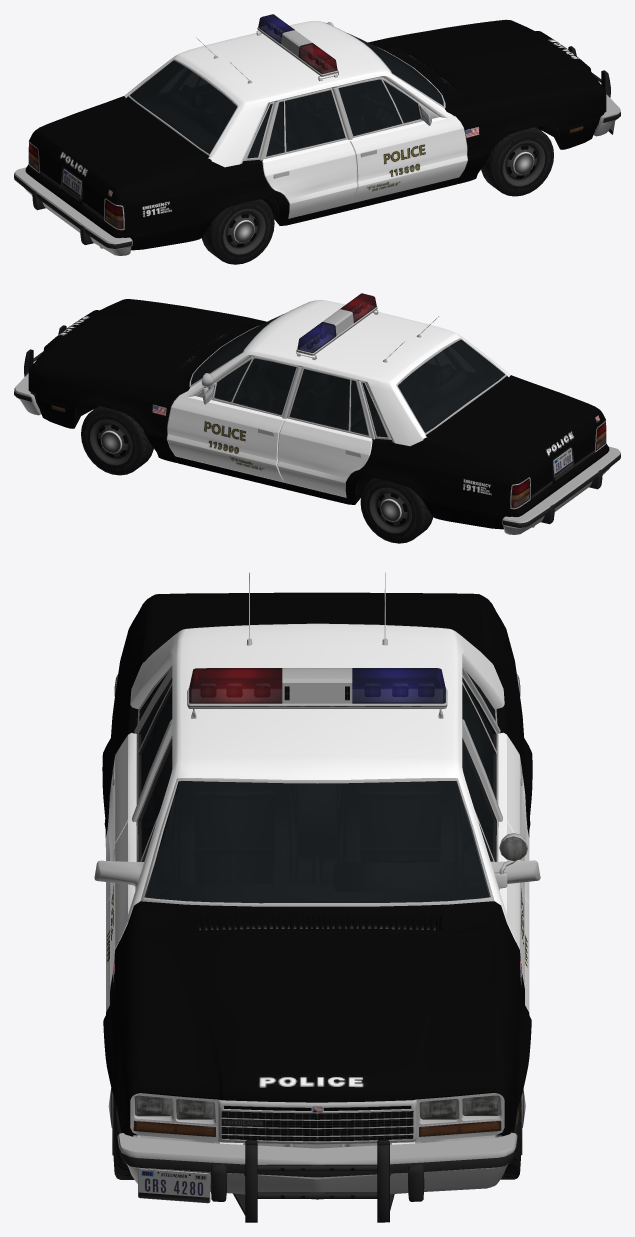
File: prop_car_police.glb
The picture shows the model from 3 angles, top to bottom: view 1: azimuth 30°, elevation 25°; view 2: azimuth 150°, elevation 25°; view 3: azimuth 270°, elevation 25°; orthographic projection. The views are drawn at different scales.
Visible parts, largest first — view 1: Fairheaven_LT80_body001_Fairheaven_LT80_Bodymat_0, Fairheaven_LT80_trunk_door001_Fairheaven_LT80_Bodymat_0, Fairheaven_LT80_Hood001_Fairheaven_LT80_Bodymat_0, Fairheaven_LT80_Interior_Trim001_UCB_Interior_Trim_0, Fairheaven_LT80_Glass_Rear001_UCB_Lights_and_Glass_Transpere, Fairheaven_LT80_Interior001_UCB_Interior_Trim_0, Fairheaven_LT80_Glass_Body001_UCB_Lights_and_Glass_Transpere, Fairheaven_LT80_Trim_UCB_BOTTOM_GT_0, Fairheaven_LT80_WheelStamp_FR_RB1c_Tire_1k_0, Fairheaven_LT80_WheelStamp_RR_RB1c_Tire_1k_0, Fairheaven_LT80_Glass_Passanger002_UCB_Lights_and_Glass_Tran, Fairheaven_LT80_bumper_rear001_UCB_BOTTOM_GT_0 (+9 smaller); view 2: Fairheaven_LT80_body001_Fairheaven_LT80_Bodymat_0, Fairheaven_LT80_trunk_door001_Fairheaven_LT80_Bodymat_0, Fairheaven_LT80_Hood001_Fairheaven_LT80_Bodymat_0, Fairheaven_LT80_Interior_Trim001_UCB_Interior_Trim_0, Fairheaven_LT80_Interior001_UCB_Interior_Trim_0, Fairheaven_LT80_Glass_Rear001_UCB_Lights_and_Glass_Transpere, Fairheaven_LT80_Glass_Body001_UCB_Lights_and_Glass_Transpere, Fairheaven_LT80_Trim_UCB_BOTTOM_GT_0, Fairheaven_LT80_WheelStamp_FL_RB1c_Tire_1k_0, Fairheaven_LT80_WheelStamp_RL_RB1c_Tire_1k_0, Fairheaven_LT80_Glass_Driver002_UCB_Lights_and_Glass_Transpe, Fairheaven_LT80_bumper_rear001_UCB_BOTTOM_GT_0 (+9 smaller); view 3: Fairheaven_LT80_body001_Fairheaven_LT80_Bodymat_0, Fairheaven_LT80_Hood001_Fairheaven_LT80_Bodymat_0, Fairheaven_LT80_Interior_Trim001_UCB_Interior_Trim_0, Fairheaven_LT80_Windshield001_UCB_Lights_and_Glass_Transpere, Fairheaven_LT80_Bumper_Front001_UCB_BOTTOM_GT_0, Fairheaven_LT80_Front_Plate_Inner001_UCB_BOTTOM_GT_0, Fairheaven_LT80_trunk_door001_Fairheaven_LT80_Bodymat_0, Fairheaven_LT80_Trim_UCB_BOTTOM_GT_0, Fairheaven_LT80_Lightbar_UCB_BOTTOM_GT_0, Fairheaven_LT80_Lightbar_Glass_UCB_Lights_and_Glass_Transper, Fairheaven_LT80_Headlights_Glass001_UCB_Lights_and_Glass_Tra, Fairheaven_LT80_Bullbar_UCB_BOTTOM_GT_0 (+8 smaller).
Boxes of the visible parts, x1,y1,x2,y2 form: Fairheaven_LT80_body001_Fairheaven_LT80_Bodymat_0: [25, 21, 588, 250]; Fairheaven_LT80_trunk_door001_Fairheaven_LT80_Bodymat_0: [32, 98, 207, 220]; Fairheaven_LT80_Hood001_Fairheaven_LT80_Bodymat_0: [385, 20, 602, 104]; Fairheaven_LT80_Interior_Trim001_UCB_Interior_Trim_0: [167, 49, 443, 157]; Fairheaven_LT80_Glass_Rear001_UCB_Lights_and_Glass_Transpere: [130, 60, 236, 153]; Fairheaven_LT80_Interior001_UCB_Interior_Trim_0: [130, 45, 442, 153]; Fairheaven_LT80_Glass_Body001_UCB_Lights_and_Glass_Transpere: [160, 68, 344, 158]; Fairheaven_LT80_Trim_UCB_BOTTOM_GT_0: [28, 22, 445, 230]; Fairheaven_LT80_WheelStamp_FR_RB1c_Tire_1k_0: [481, 127, 553, 196]; Fairheaven_LT80_WheelStamp_RR_RB1c_Tire_1k_0: [201, 199, 274, 264]; Fairheaven_LT80_Glass_Passanger002_UCB_Lights_and_Glass_Tran: [338, 79, 419, 135]; Fairheaven_LT80_bumper_rear001_UCB_BOTTOM_GT_0: [14, 167, 132, 255]; Fairheaven_LT80_body001_Fairheaven_LT80_Bodymat_0: [46, 300, 609, 529]; Fairheaven_LT80_trunk_door001_Fairheaven_LT80_Bodymat_0: [427, 377, 602, 499]; Fairheaven_LT80_Hood001_Fairheaven_LT80_Bodymat_0: [32, 299, 249, 383]; Fairheaven_LT80_Interior_Trim001_UCB_Interior_Trim_0: [192, 331, 467, 436]; Fairheaven_LT80_Interior001_UCB_Interior_Trim_0: [193, 324, 504, 432]; Fairheaven_LT80_Glass_Rear001_UCB_Lights_and_Glass_Transpere: [398, 339, 504, 432]; Fairheaven_LT80_Glass_Body001_UCB_Lights_and_Glass_Transpere: [290, 347, 474, 437]; Fairheaven_LT80_Trim_UCB_BOTTOM_GT_0: [189, 301, 606, 509]; Fairheaven_LT80_WheelStamp_FL_RB1c_Tire_1k_0: [81, 406, 153, 475]; Fairheaven_LT80_WheelStamp_RL_RB1c_Tire_1k_0: [360, 478, 433, 543]; Fairheaven_LT80_Glass_Driver002_UCB_Lights_and_Glass_Transpe: [215, 358, 296, 414]; Fairheaven_LT80_bumper_rear001_UCB_BOTTOM_GT_0: [502, 446, 620, 534]; Fairheaven_LT80_body001_Fairheaven_LT80_Bodymat_0: [102, 594, 532, 1124]; Fairheaven_LT80_Hood001_Fairheaven_LT80_Bodymat_0: [140, 933, 494, 1102]; Fairheaven_LT80_Interior_Trim001_UCB_Interior_Trim_0: [144, 705, 490, 903]; Fairheaven_LT80_Windshield001_UCB_Lights_and_Glass_Transpere: [144, 781, 490, 903]; Fairheaven_LT80_Bumper_Front001_UCB_BOTTOM_GT_0: [117, 1132, 517, 1201]; Fairheaven_LT80_Front_Plate_Inner001_UCB_BOTTOM_GT_0: [130, 1093, 504, 1144]; Fairheaven_LT80_trunk_door001_Fairheaven_LT80_Bodymat_0: [154, 592, 480, 651]; Fairheaven_LT80_Trim_UCB_BOTTOM_GT_0: [94, 665, 540, 906]; Fairheaven_LT80_Lightbar_UCB_BOTTOM_GT_0: [187, 668, 447, 718]; Fairheaven_LT80_Lightbar_Glass_UCB_Lights_and_Glass_Transper: [189, 668, 445, 703]; Fairheaven_LT80_Headlights_Glass001_UCB_Lights_and_Glass_Tra: [133, 1095, 501, 1136]; Fairheaven_LT80_Bullbar_UCB_BOTTOM_GT_0: [233, 1139, 394, 1222].
Bounding box in the file's own units: 5.07 × 1.57 × 1.83.
Materials: 8 (8 with a texture image).
